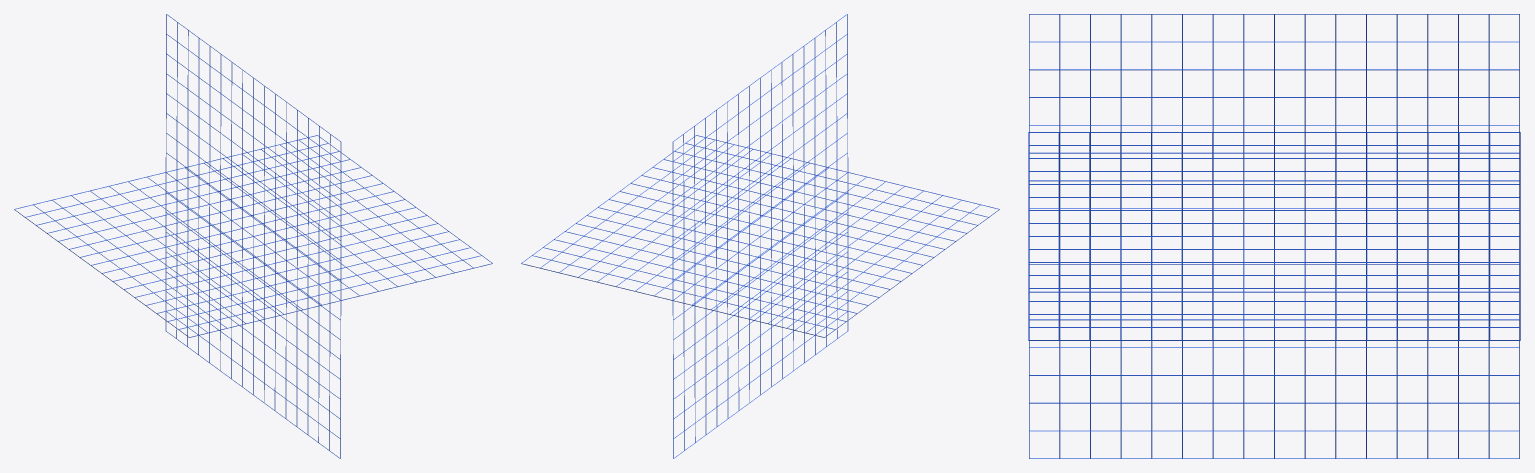
The model's file is siatka2.fbx.
3 renders of one model, left to right at view 1: azimuth 30°, elevation 25°; view 2: azimuth 150°, elevation 25°; view 3: azimuth 270°, elevation 25°, orthographic. The views are drawn at different scales.
Parts seen in each view (by area): view 1: Plane; view 2: Plane; view 3: Plane.
Part boxes in pixels (left/top/right/bottom): Plane: left=14, top=14, right=492, bottom=458; Plane: left=521, top=14, right=999, bottom=458; Plane: left=1028, top=14, right=1520, bottom=458.
Bounding box in the file's own units: 24942 × 24884 × 24942.
